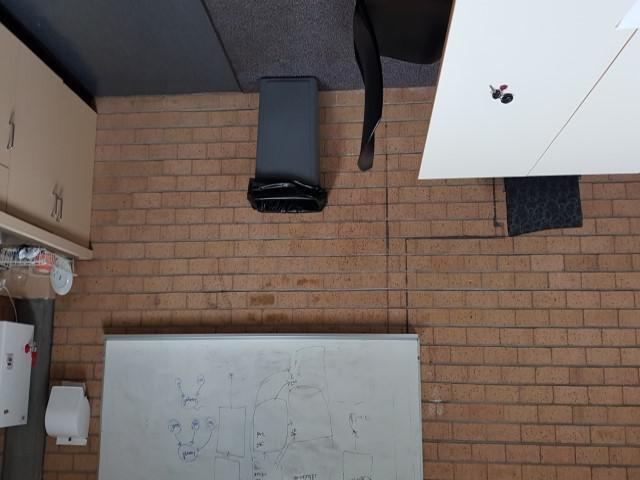key: (489, 83, 503, 99)
